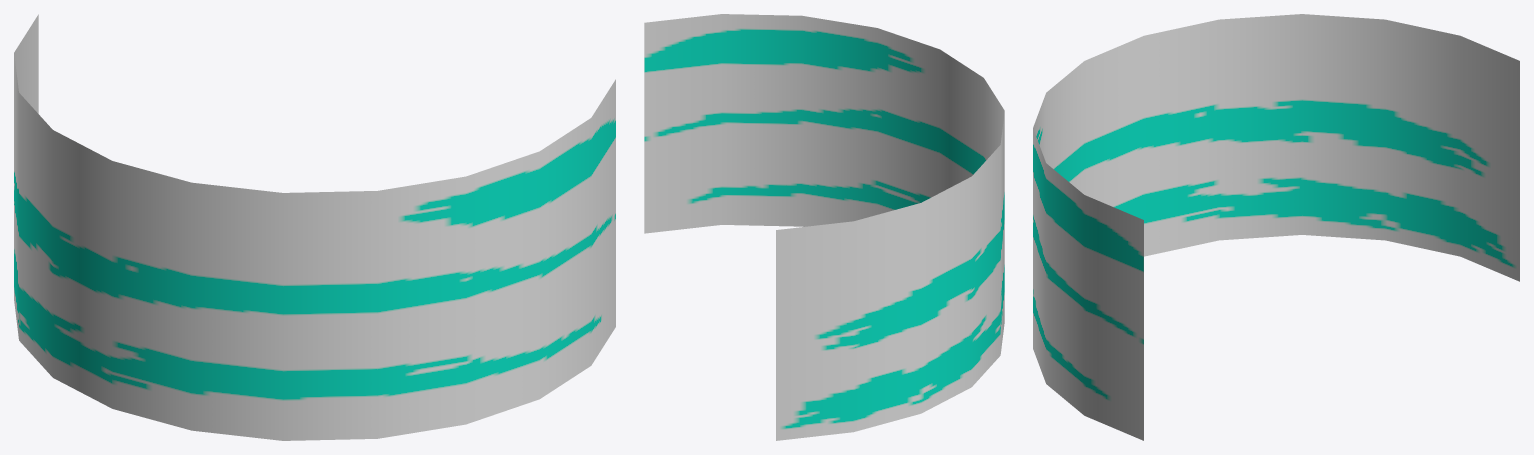
File: Effect_DoubleSlash_Mesh.fbx
3 renders of one model, left to right at view 1: azimuth 30°, elevation 25°; view 2: azimuth 150°, elevation 25°; view 3: azimuth 270°, elevation 25°, orthographic. The views are drawn at different scales.
Parts seen in each view (by area): view 1: pCylinder1; view 2: pCylinder1; view 3: pCylinder1.
Part boxes in pixels (bbox=[...]): pCylinder1: bbox=[14, 14, 615, 440]; pCylinder1: bbox=[644, 14, 1004, 440]; pCylinder1: bbox=[1033, 14, 1519, 440].
Bounding box in the file's own units: 37.96 × 18.97 × 37.91.
Materials: 1 (1 with a texture image).
